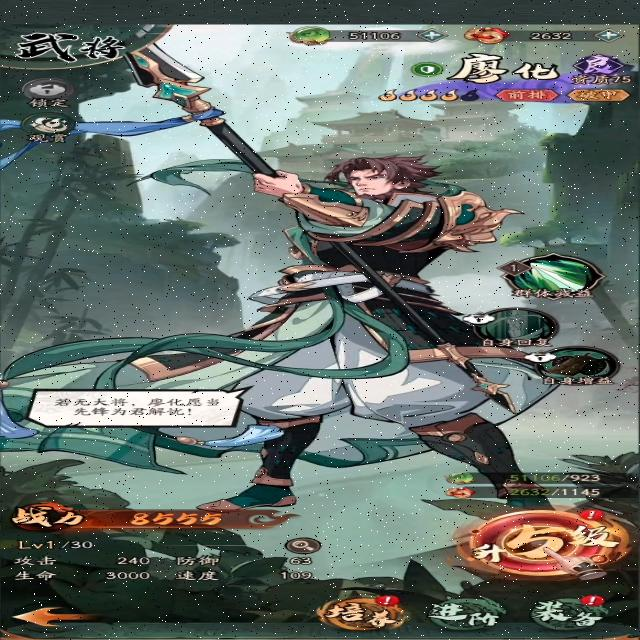hint-guide: (458, 509, 626, 576)
hint-reddot: (368, 594, 403, 608), (576, 594, 606, 609), (578, 508, 603, 522)
operation-advanced: (427, 598, 508, 630)
operation-back: (4, 603, 101, 629)
operation-equipment: (519, 596, 615, 631)
operation-oneKeyEquipmentDown: (451, 508, 626, 578)
operation-train: (322, 597, 406, 629)
skill-multi1-off: (523, 344, 625, 388)
skill-multi2-off: (459, 305, 565, 348)
skill-multi3-on: (496, 251, 611, 300)
